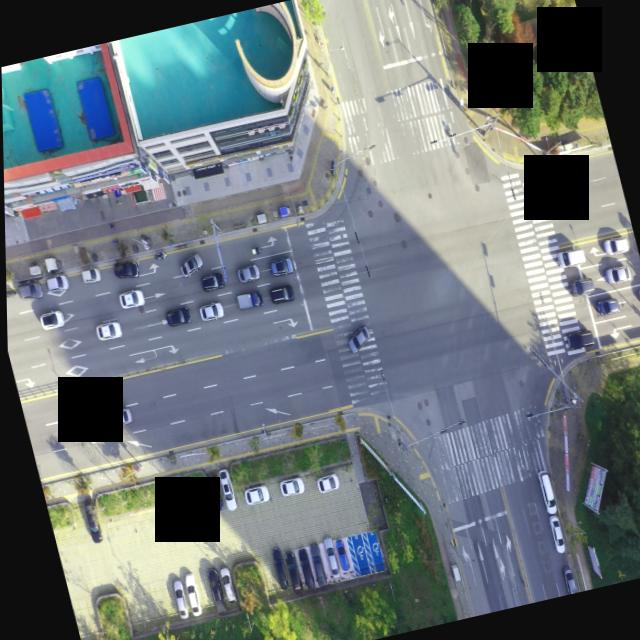car: (534, 472, 556, 518), (200, 566, 221, 609), (292, 546, 312, 590), (266, 546, 286, 590), (306, 544, 326, 587), (319, 538, 339, 580), (166, 578, 186, 619), (181, 574, 200, 617), (561, 326, 592, 352), (278, 548, 297, 590), (214, 468, 233, 510), (344, 326, 371, 354), (544, 514, 563, 552), (77, 499, 96, 536), (202, 472, 220, 509), (215, 566, 233, 602), (601, 235, 629, 258), (239, 482, 265, 506), (35, 308, 61, 332), (602, 265, 630, 287), (93, 320, 120, 342), (274, 474, 301, 496), (161, 307, 188, 329), (564, 277, 591, 299), (117, 288, 143, 310), (266, 284, 292, 306), (175, 498, 201, 520), (110, 258, 136, 280), (177, 254, 203, 276), (104, 405, 129, 427), (42, 272, 67, 294), (266, 255, 291, 277), (196, 302, 222, 323), (330, 538, 346, 572), (312, 472, 337, 493), (15, 280, 40, 301), (592, 296, 617, 316), (196, 272, 221, 292), (64, 421, 87, 442), (558, 566, 575, 594), (233, 264, 256, 284), (78, 266, 99, 284), (634, 285, 640, 305)
small_truck: (552, 244, 584, 270), (233, 290, 260, 312)
